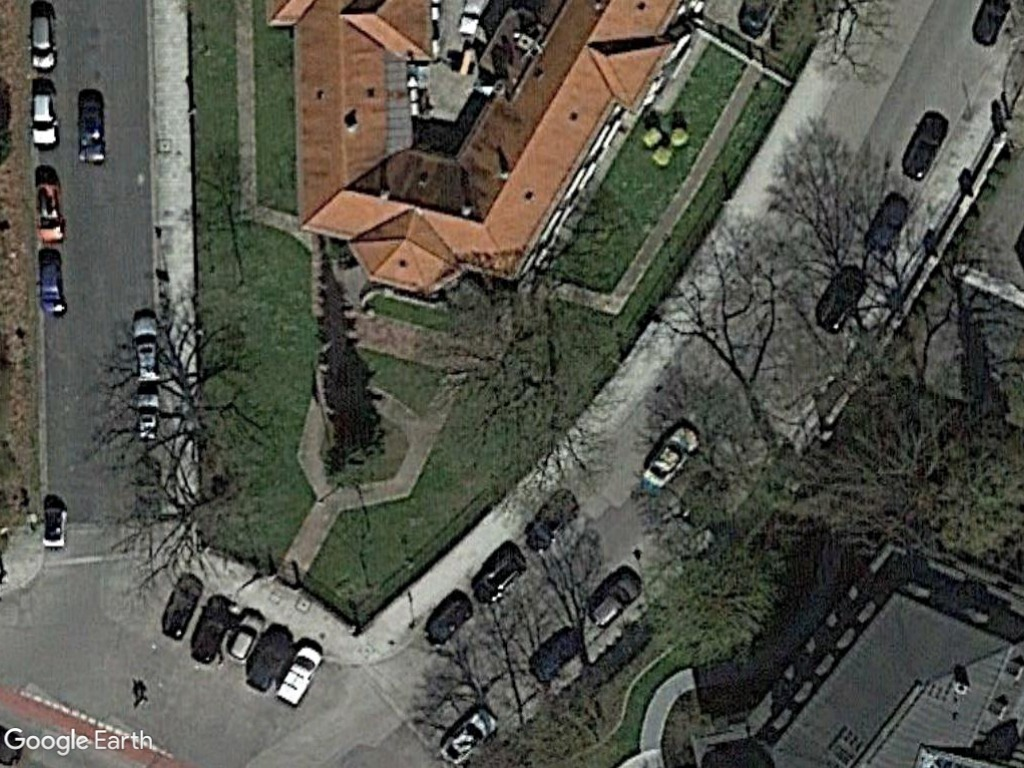car: (636, 421, 703, 493), (436, 707, 499, 766), (584, 567, 642, 630), (130, 313, 165, 385), (224, 611, 267, 667), (28, 82, 61, 150), (27, 10, 61, 72)
van: (273, 645, 325, 710)
